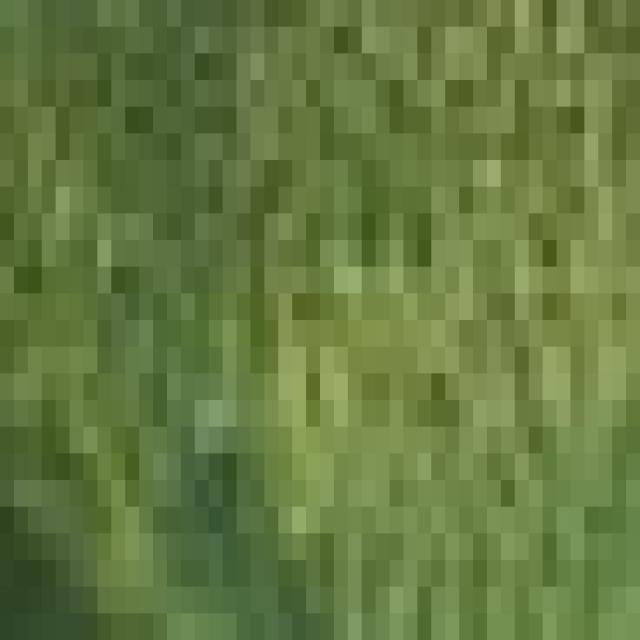fish: (14, 26, 640, 640)
